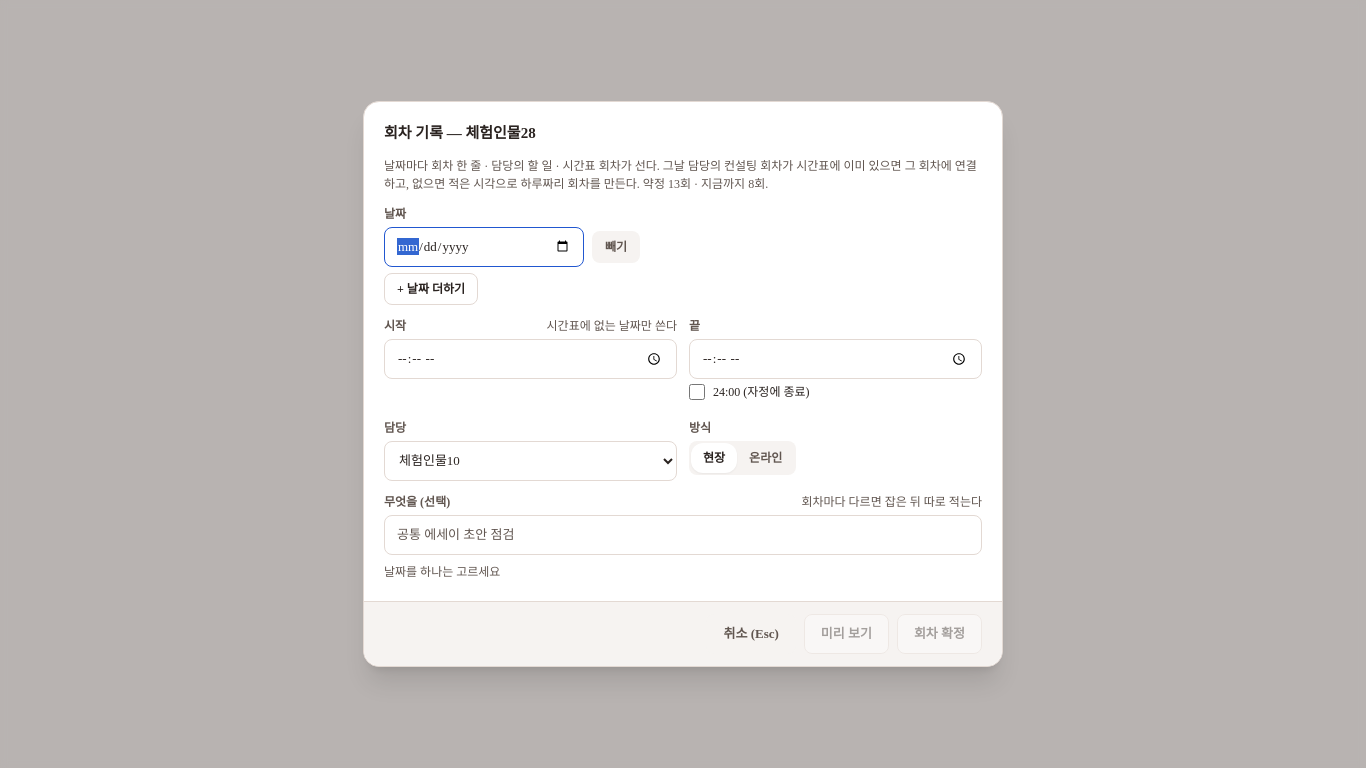
Test: 미리보기가 겹친 날짜를 주면 그 날짜 옆에 주황 점과 겹친 일정을 보이고 확정을 잠근다 (I-91)
The image size is (1366, 768).
Type "2026-09-25" into the date field named "날짜 1" at [484, 247], box [384,227,584,267]
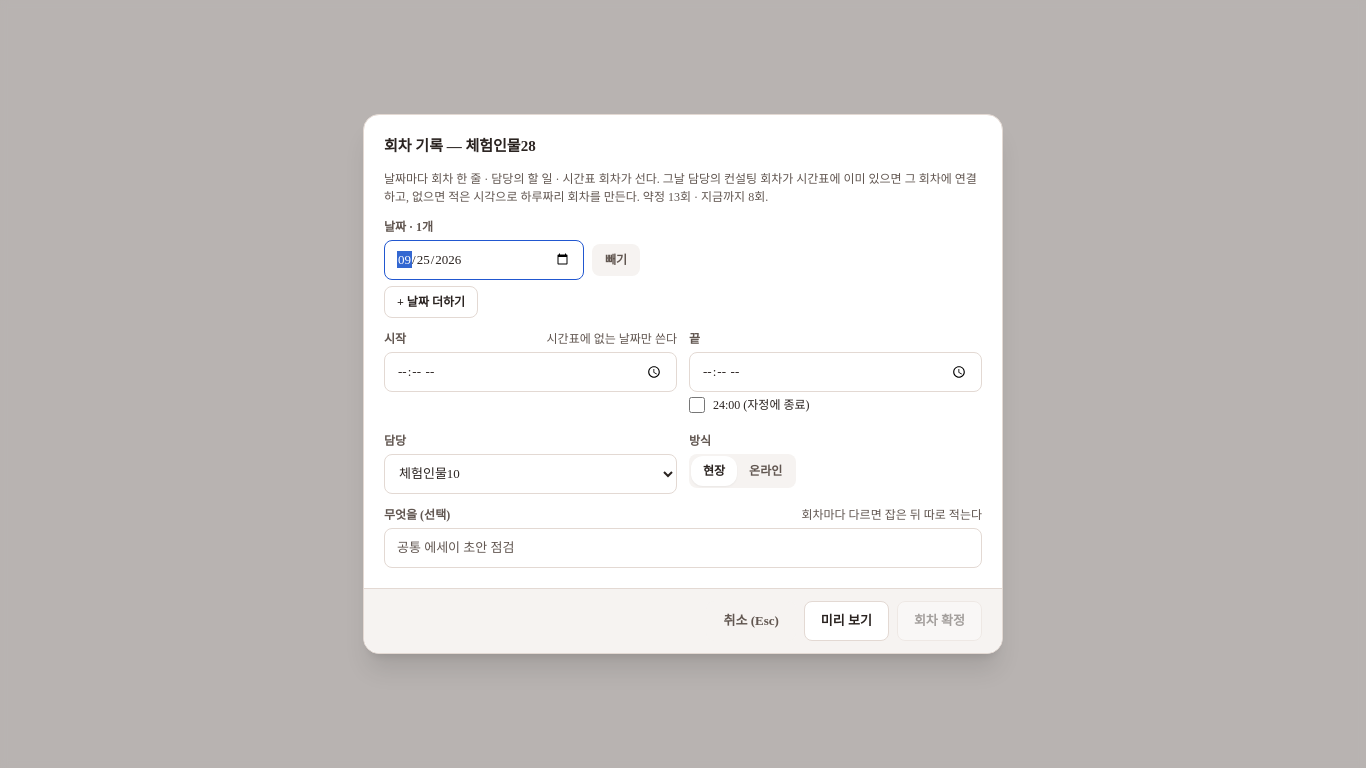
Click the button "+ 날짜 더하기" at [431, 302], box [384,286,478,318]
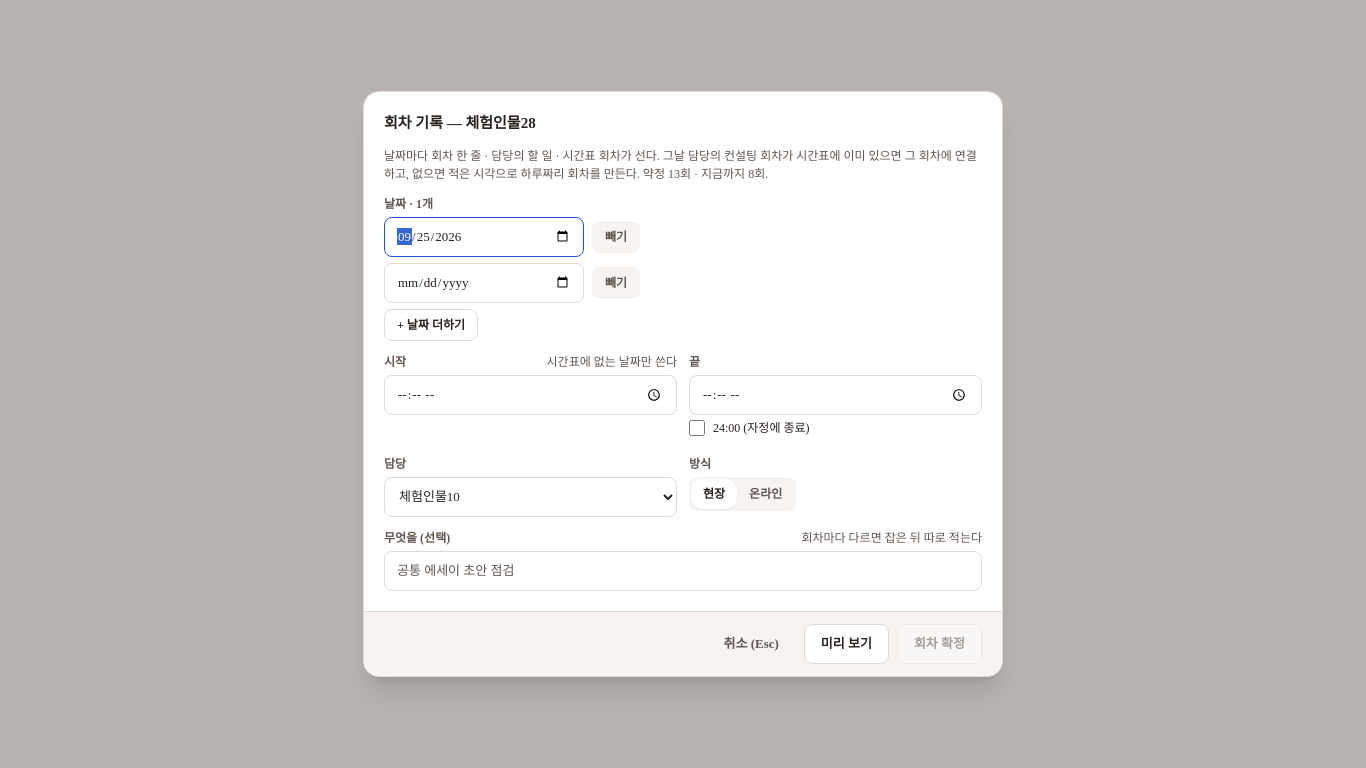
Type "2026-09-23" into the date field named "날짜 2" at [484, 283], box [384,263,584,303]
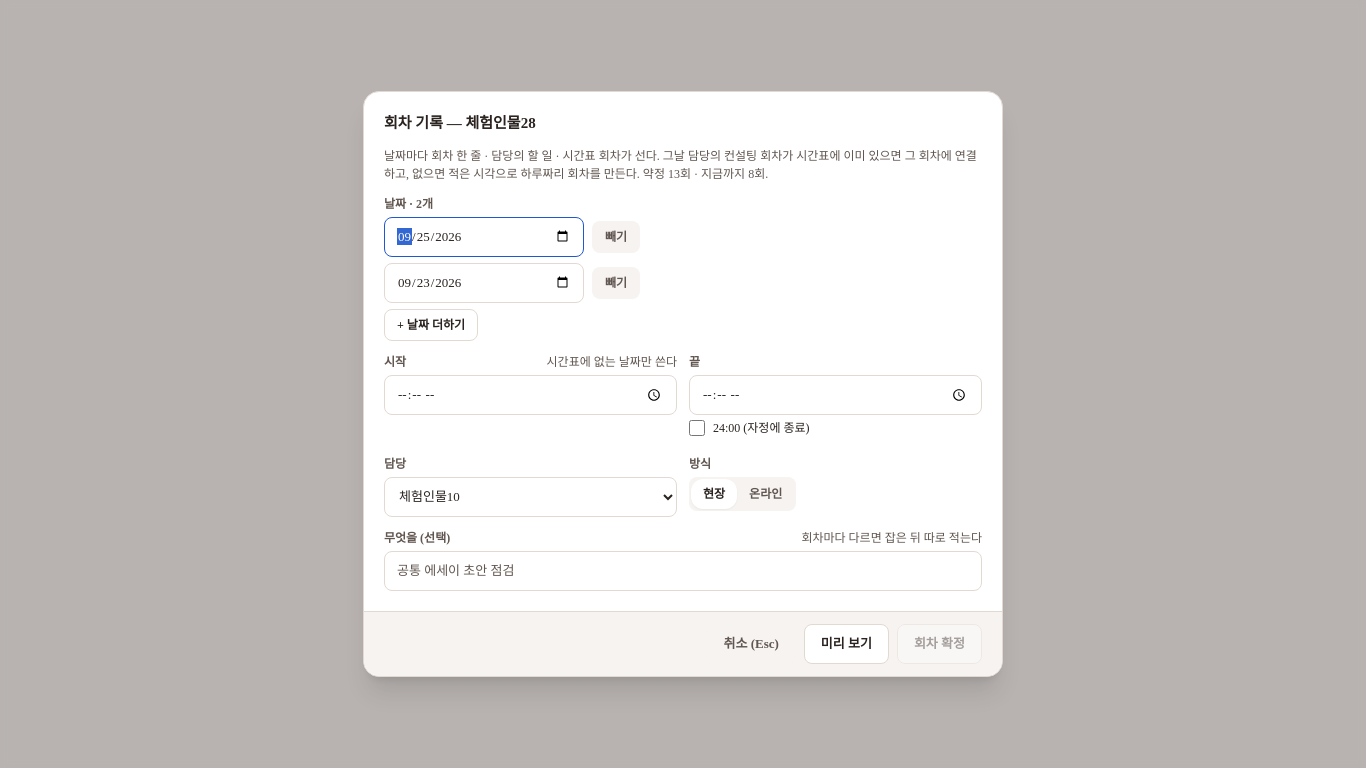
Type "10:00" into the time field labelled "시작" at [530, 395], box [384,375,677,415]
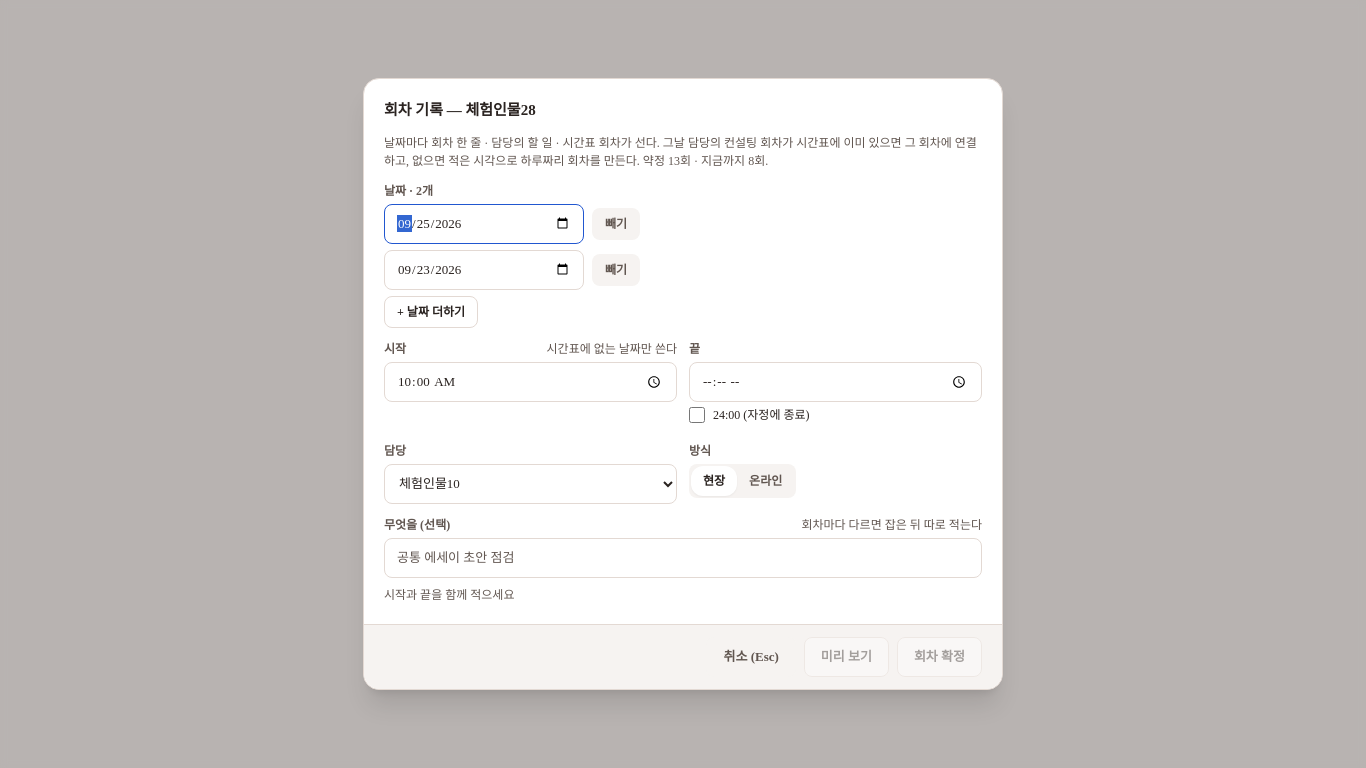
Type "11:00" into the time field labelled "끝" at [836, 382], box [689,362,982,402]
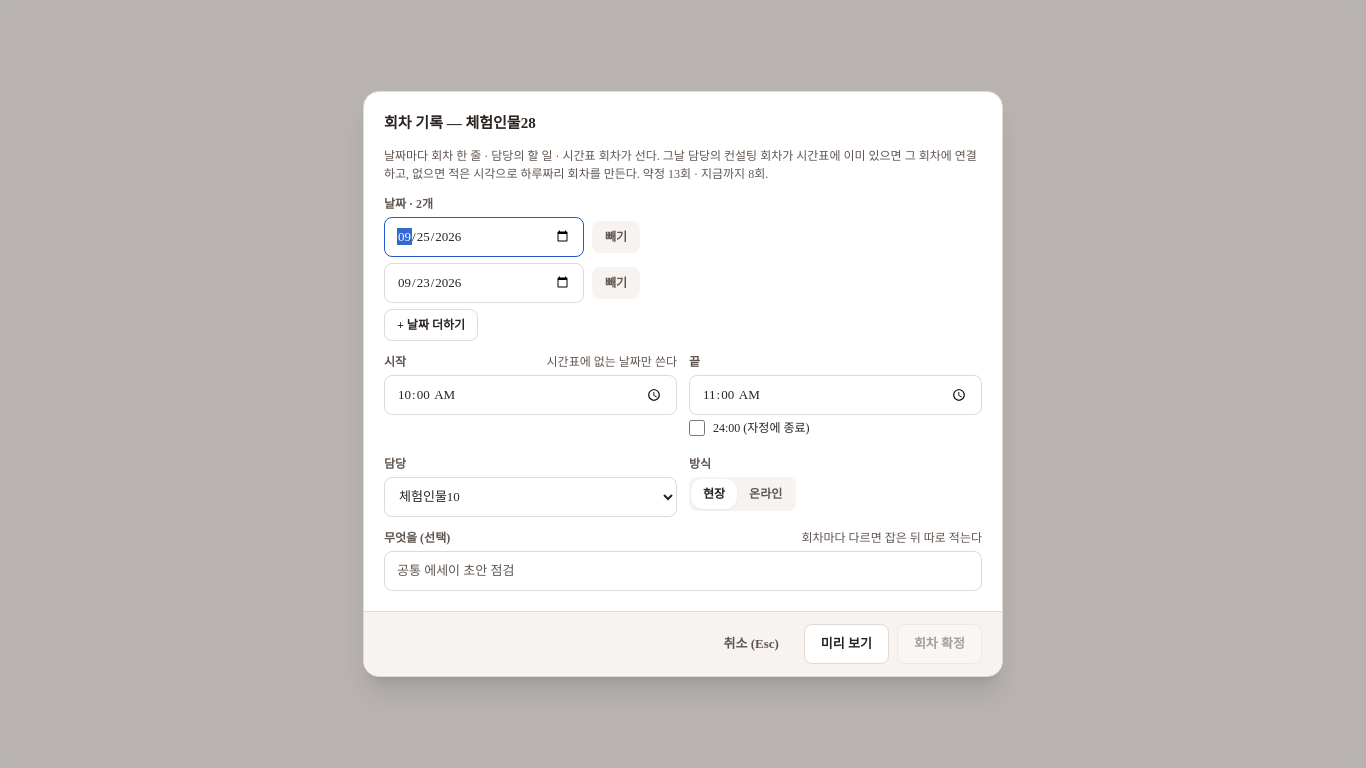
Click the button "미리 보기" at [846, 644], box [804,624,889,664]
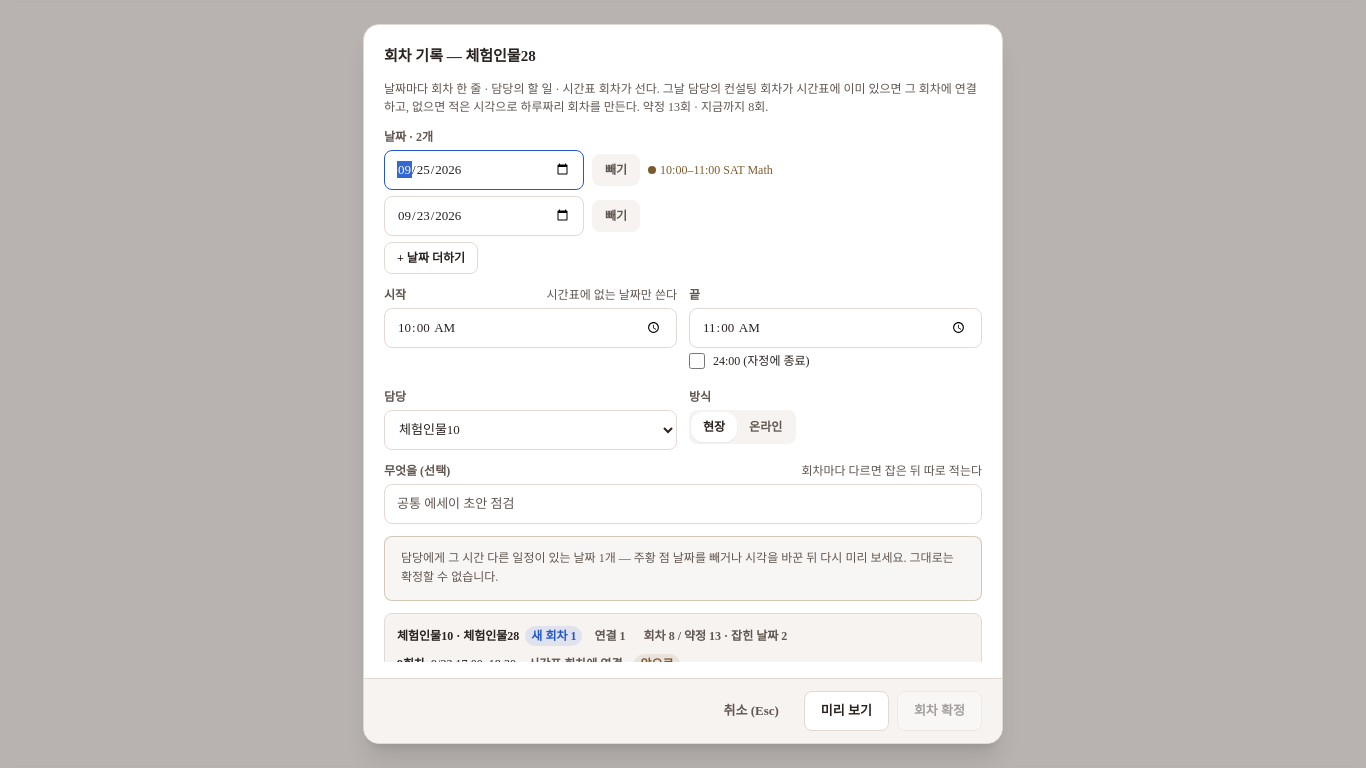
Expected: the button "회차 확정" is disabled, [897,691,982,731]
Now the message named "9/25 담당 일정 겹침" reads "10:00–11:00 SAT Math", box [660,162,773,176]
Now the text "담당에게 그 시간 다른 일정이 있는 날짜 1개" is shown, box [384,536,982,600]
